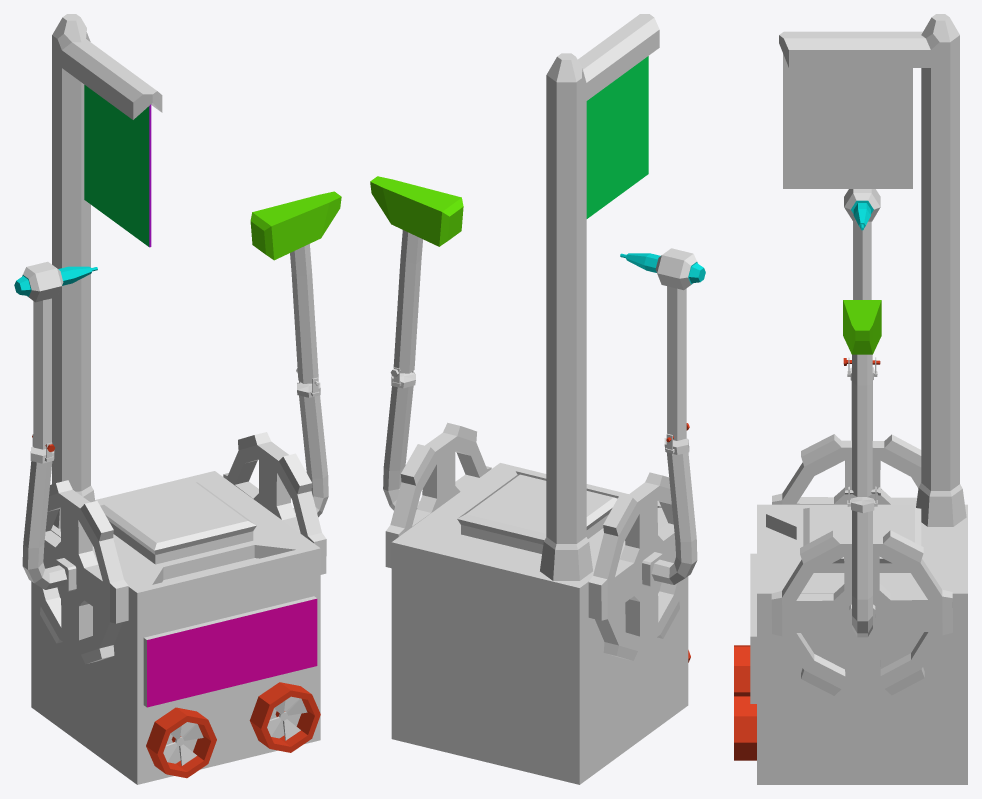
Rendered from Workbench3.fbx.
The picture shows the model from 3 angles, left to right: view 1: azimuth 30°, elevation 25°; view 2: azimuth 150°, elevation 25°; view 3: azimuth 270°, elevation 25°; orthographic projection. The views are drawn at different scales.
Parts seen in each view (by area): view 1: machine body, flag pole, cog1, Cube.001, hammer arm, cog2, Weld Arm, ToolArm LowerHalf1, Tool Arm LowerHlaf 2, fan 2, fan 1; view 2: machine body, flag pole, cog1, Cube.001, hammer arm, cog2, Weld Arm, ToolArm LowerHalf1, Tool Arm LowerHlaf 2; view 3: machine body, flag pole, cog2, Cube.001, cog1, hammer arm, Tool Arm LowerHlaf 2, Weld Arm.
Part boxes in pixels (x1,y1,x2,y2): machine body: (31,471,320,784); flag pole: (52,14,162,528); cog1: (35,480,128,664); Cube.001: (84,85,151,247); hammer arm: (250,191,341,383); cog2: (223,432,326,574); Weld Arm: (14,261,97,449); ToolArm LowerHalf1: (22,434,67,589); Tool Arm LowerHlaf 2: (293,377,328,517); fan 2: (267,698,307,740); fan 1: (163,723,203,765); machine body: (391,463,690,784); flag pole: (540,14,659,580); cog1: (588,472,684,660); Cube.001: (586,56,648,218); hammer arm: (370,176,463,373); cog2: (385,422,491,568); Weld Arm: (620,248,705,440); ToolArm LowerHalf1: (651,433,697,584); Tool Arm LowerHlaf 2: (383,367,419,510); machine body: (734,504,967,784); flag pole: (779,14,966,526); cog2: (771,530,952,695); Cube.001: (783,54,912,188); cog1: (772,434,921,504); hammer arm: (843,300,881,496); Tool Arm LowerHlaf 2: (847,486,877,637); Weld Arm: (844,189,880,299).
Size of the model in its own units: 581 by 1202 by 368.
